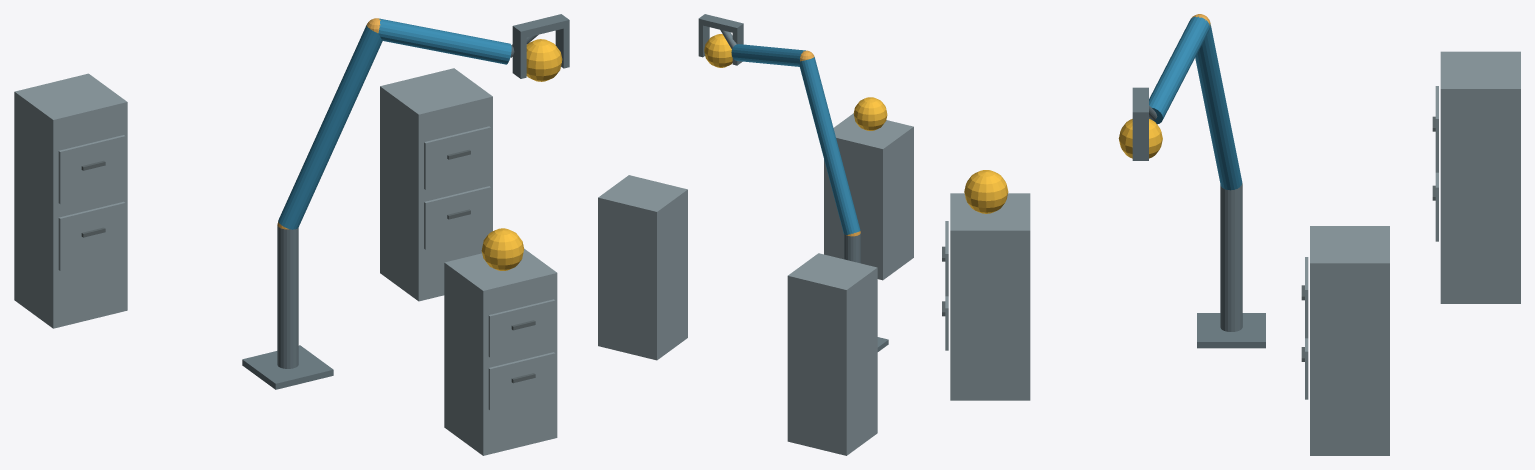
3 renders of one model, left to right at view 1: azimuth 30°, elevation 25°; view 2: azimuth 150°, elevation 25°; view 3: azimuth 270°, elevation 25°, orthographic. The views are drawn at different scales.
Parts seen in each view (by area): view 1: cabinet_3 body, cabinet_2 body, cabinet_1 body, moving link 1, cabinet_3 drawer front, cabinet_3 drawer front.001, cabinet_2 drawer front.001, cabinet_2 drawer front, fixed post, moving link 2, cabinet_1 drawer front.001, cabinet_1 drawer front (+5 smaller); view 2: cabinet_3 body, cabinet_2 body, cabinet_1 body, moving link 1, moving link 2, released ball_1, ball ball_2, gripper bridge, fixed post; view 3: cabinet_3 body, cabinet_2 body, cabinet_1 body, moving link 1, fixed post, moving link 2, pedestal, released ball_1, ball ball_2, gripper finger 1.
Boxes of the visible parts, x1,y1,x2,y2 form: cabinet_3 body: (14, 73, 127, 328); cabinet_2 body: (380, 68, 492, 301); cabinet_1 body: (444, 248, 557, 455); moving link 1: (278, 25, 382, 229); cabinet_3 drawer front: (58, 201, 125, 270); cabinet_3 drawer front.001: (58, 135, 125, 203); cabinet_2 drawer front.001: (424, 126, 490, 189); cabinet_2 drawer front: (424, 186, 490, 249); fixed post: (277, 226, 298, 368); moving link 2: (378, 18, 511, 64); cabinet_1 drawer front.001: (488, 299, 555, 357); cabinet_1 drawer front: (488, 352, 555, 410); cabinet_3 body: (787, 253, 877, 455); cabinet_2 body: (598, 175, 687, 360); cabinet_1 body: (824, 113, 913, 280); moving link 1: (799, 57, 860, 234); moving link 2: (731, 44, 805, 66); released ball_1: (853, 97, 887, 130); ball ball_2: (704, 34, 732, 67); gripper bridge: (698, 14, 743, 33); fixed post: (844, 232, 860, 263); cabinet_3 body: (1440, 51, 1520, 303); cabinet_2 body: (1310, 226, 1389, 455); cabinet_1 body: (950, 193, 1030, 400); moving link 1: (1195, 24, 1242, 190); fixed post: (1220, 184, 1242, 331); moving link 2: (1149, 16, 1209, 124); pedestal: (1197, 313, 1265, 348); released ball_1: (964, 170, 1008, 213); ball ball_2: (1118, 119, 1162, 158); gripper finger 1: (1132, 119, 1148, 160).
Size of the model in its own units: 1.62 by 1.42 by 2.1.
